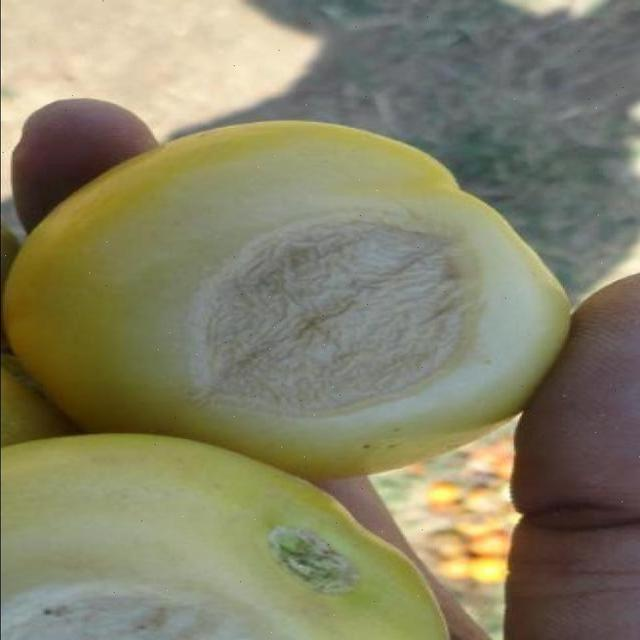Sunscald Fruit: (107, 41, 229, 406)
